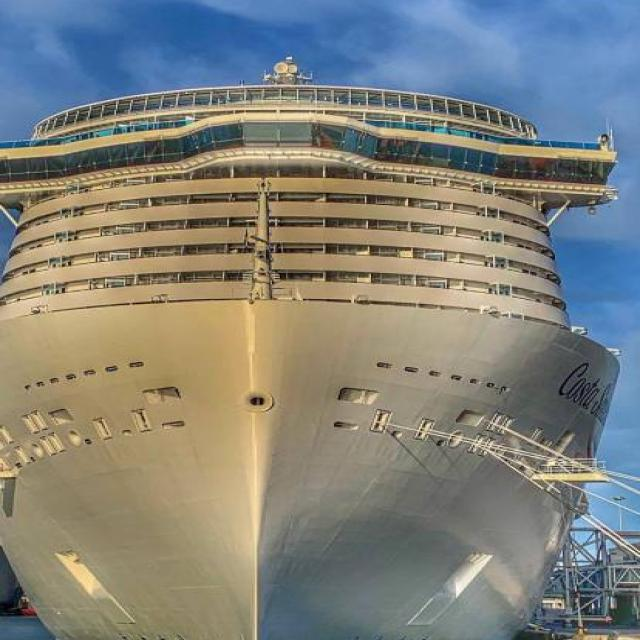cruises: (1, 55, 627, 640)
